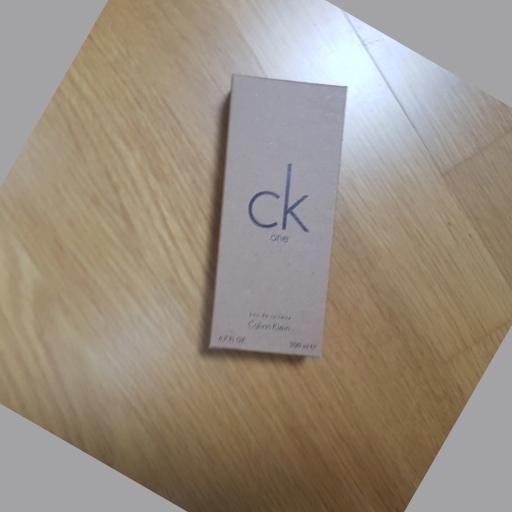Paper_0: (205, 67, 355, 380)
